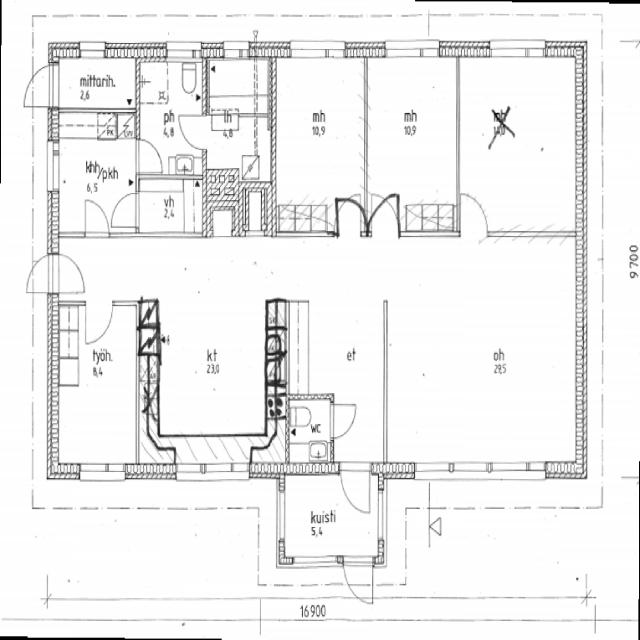door: (337, 462, 374, 518), (340, 555, 377, 606), (459, 188, 493, 242), (53, 248, 87, 300), (81, 297, 115, 348), (369, 190, 402, 238), (108, 187, 140, 233), (328, 398, 359, 443), (81, 194, 111, 240), (26, 63, 54, 109), (177, 110, 207, 152), (135, 135, 165, 175), (26, 251, 53, 295), (337, 197, 365, 238)
window: (489, 219, 570, 247), (75, 457, 130, 485), (494, 458, 550, 482), (486, 40, 546, 62), (288, 40, 346, 62), (384, 40, 442, 61), (46, 137, 62, 196), (374, 485, 389, 546), (274, 484, 288, 546), (290, 552, 338, 570), (165, 44, 200, 61), (78, 40, 107, 60), (222, 41, 250, 60), (211, 232, 233, 243)
zone: (386, 236, 582, 469), (139, 299, 283, 461), (456, 57, 584, 238), (366, 50, 459, 235), (276, 54, 366, 234), (52, 302, 143, 472), (52, 108, 139, 233), (278, 471, 384, 564), (286, 299, 384, 397), (137, 58, 206, 178), (203, 115, 271, 185), (52, 55, 138, 109), (135, 177, 204, 236), (205, 56, 268, 116), (287, 395, 333, 472), (173, 111, 206, 151)
